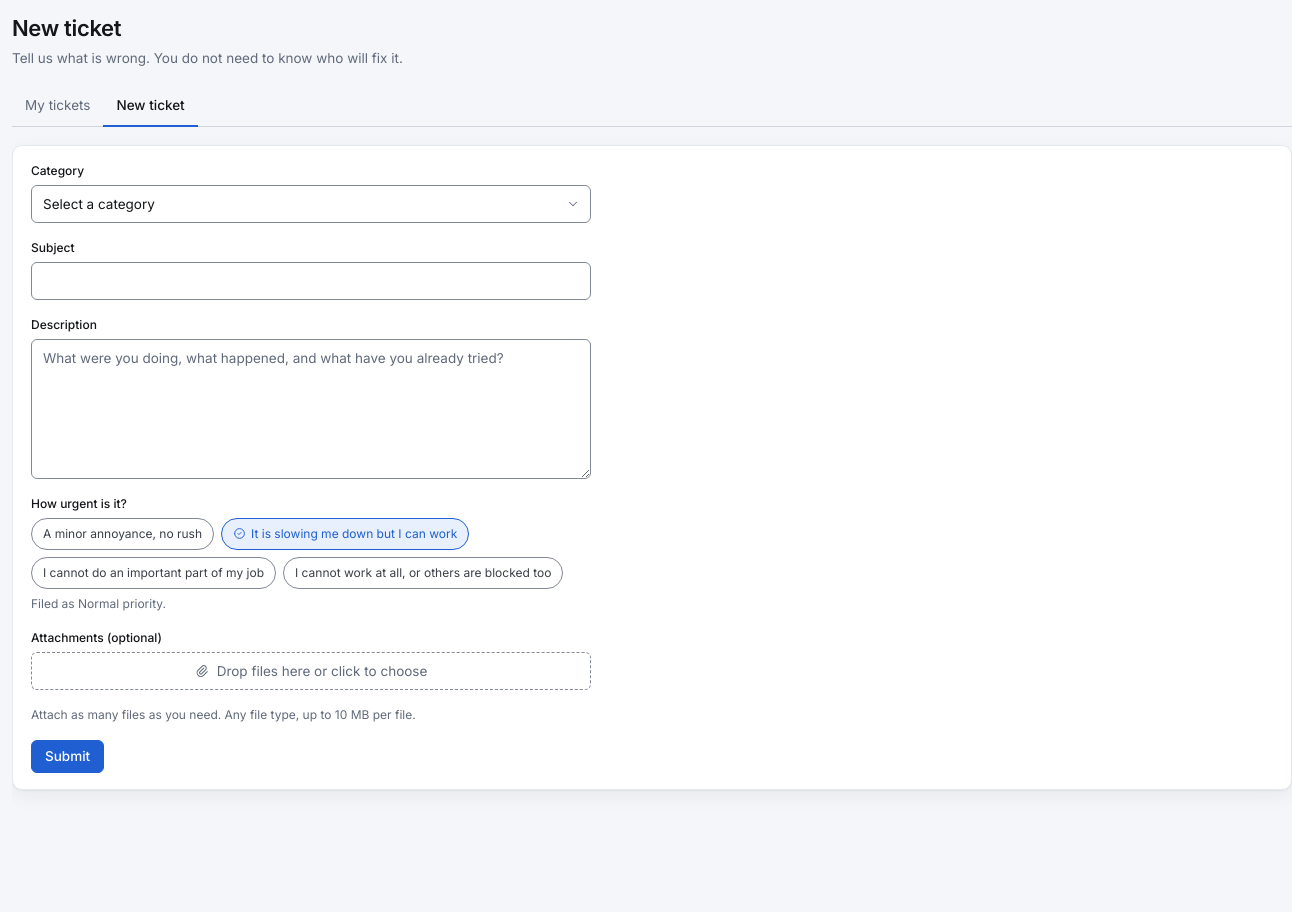
Scenario: help suggestions on the new-ticket form › asks once, after typing pauses, and lists what might help
Type "wifi keeps dropping" into the field labelled "Subject". click: (311, 281)
box: [31,262,591,300]
Wait 400 ms
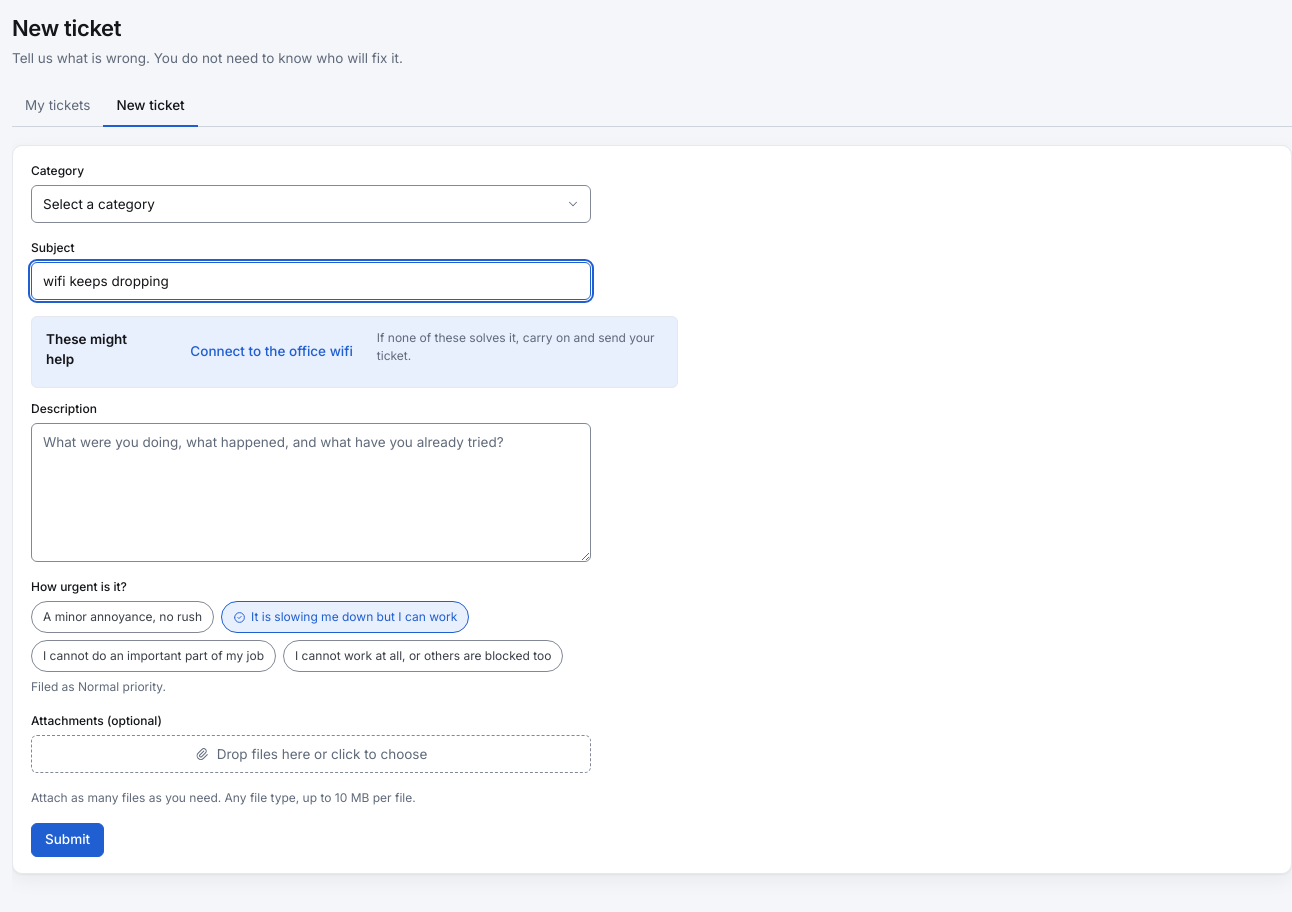
Result: the button "Connect to the office wifi" is shown at [176,335,367,368]
